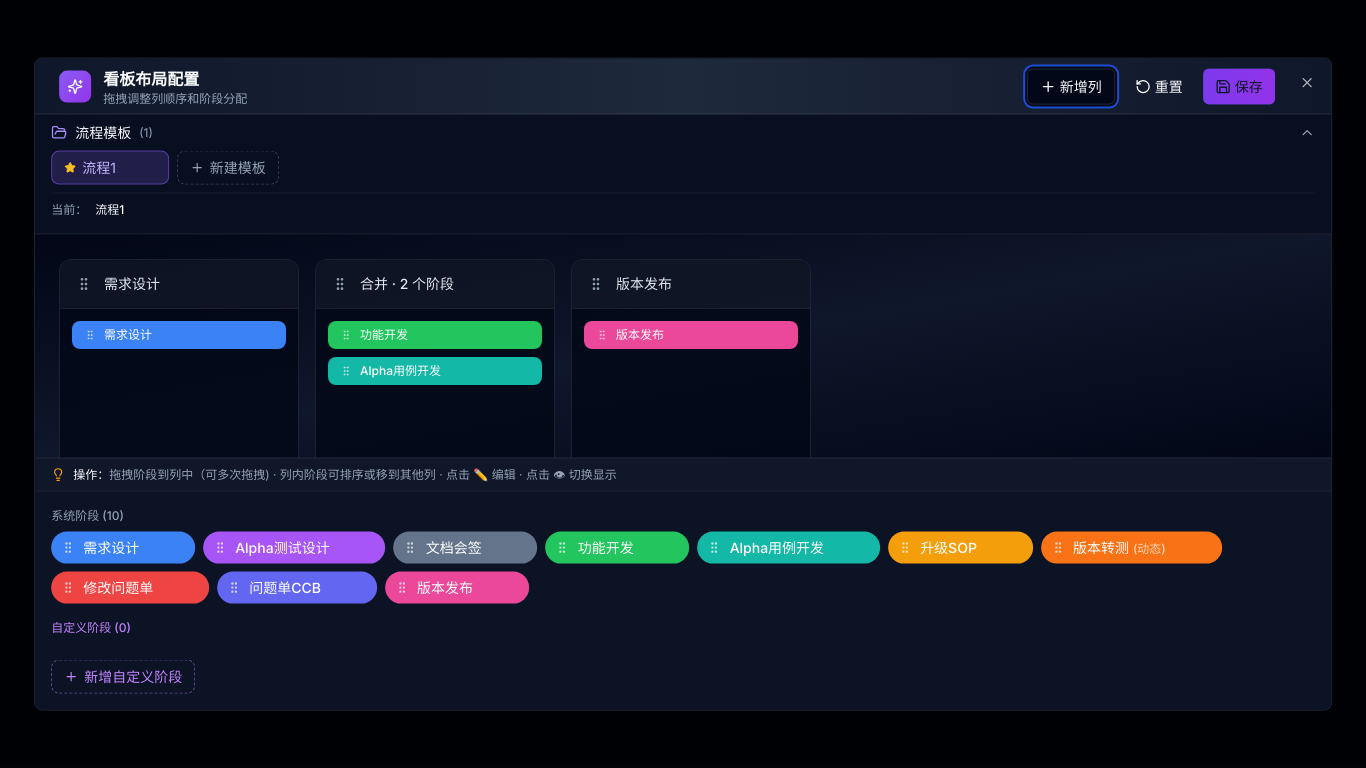
Test: KanbanConfigDialog › 编辑功能 › 编辑列标题 - 点击标题进入编辑模式
Expected: the button "新增列" is shown, [1027, 68, 1115, 104]
Note: 点击列标题进入编辑模式
Click the 1st text "需求设计". click: [132, 283]
box: [104, 275, 160, 292]
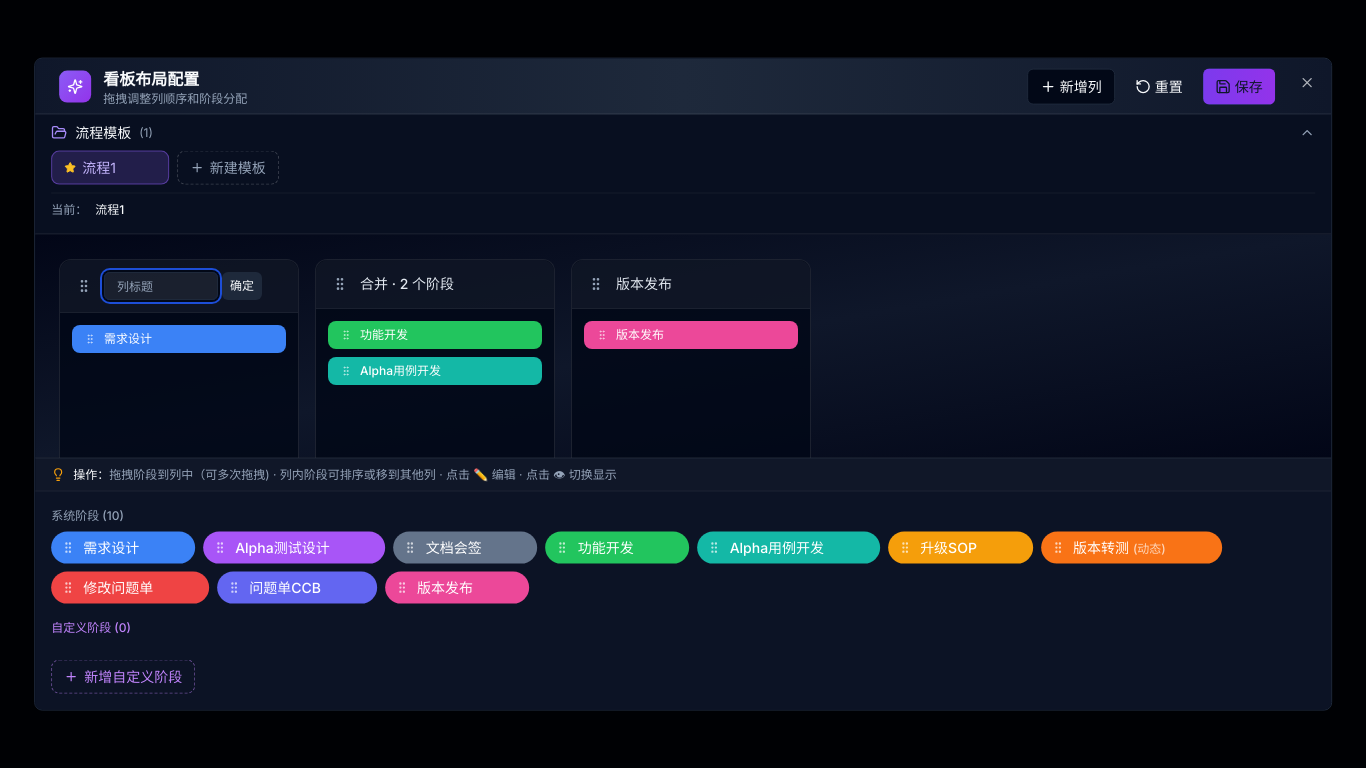
Expected: the field with placeholder "列标题" is shown, [104, 272, 218, 300]
